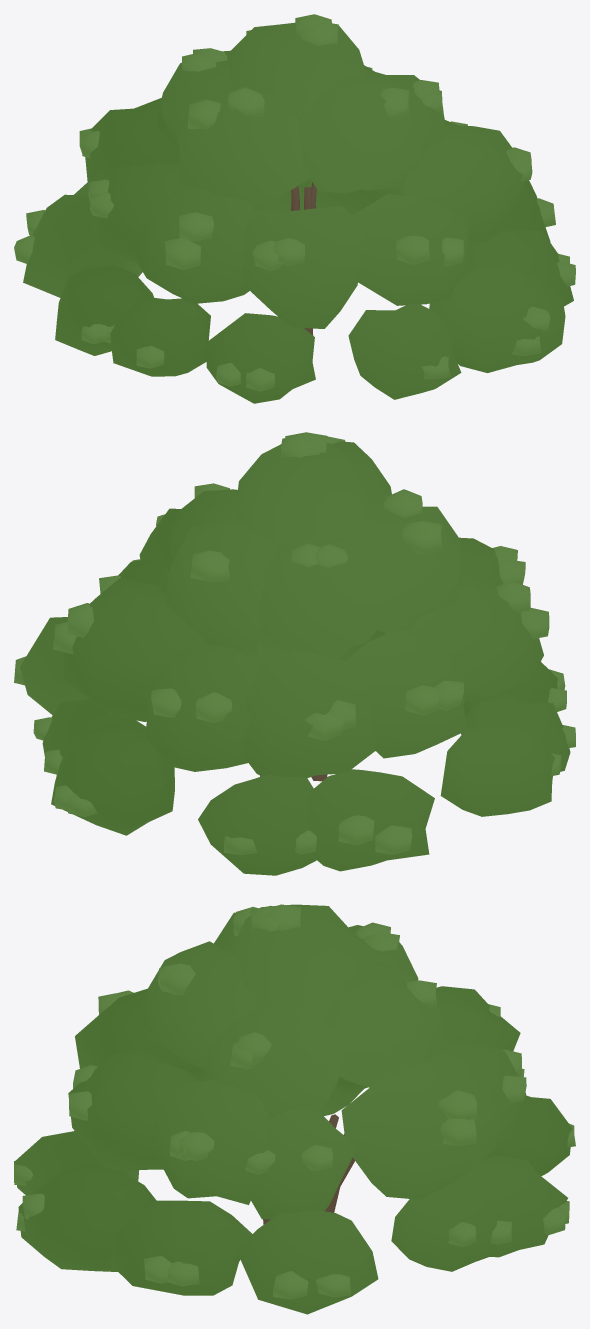
The model's file is Blender_Azalea_1.glb.
3 renders of one model, top to bottom at view 1: azimuth 30°, elevation 25°; view 2: azimuth 150°, elevation 25°; view 3: azimuth 270°, elevation 25°, orthographic. The views are drawn at different scales.
Parts seen in each view (by area): view 1: Blender_Azalea_1; view 2: Blender_Azalea_1; view 3: Blender_Azalea_1.
Boxes of the visible parts, x1=… form: Blender_Azalea_1: x1=14, y1=14, x2=575, y2=403; Blender_Azalea_1: x1=14, y1=432, x2=575, y2=875; Blender_Azalea_1: x1=14, y1=904, x2=575, y2=1314.
Bounding box in the file's own units: 2.22 × 1.39 × 2.13.
